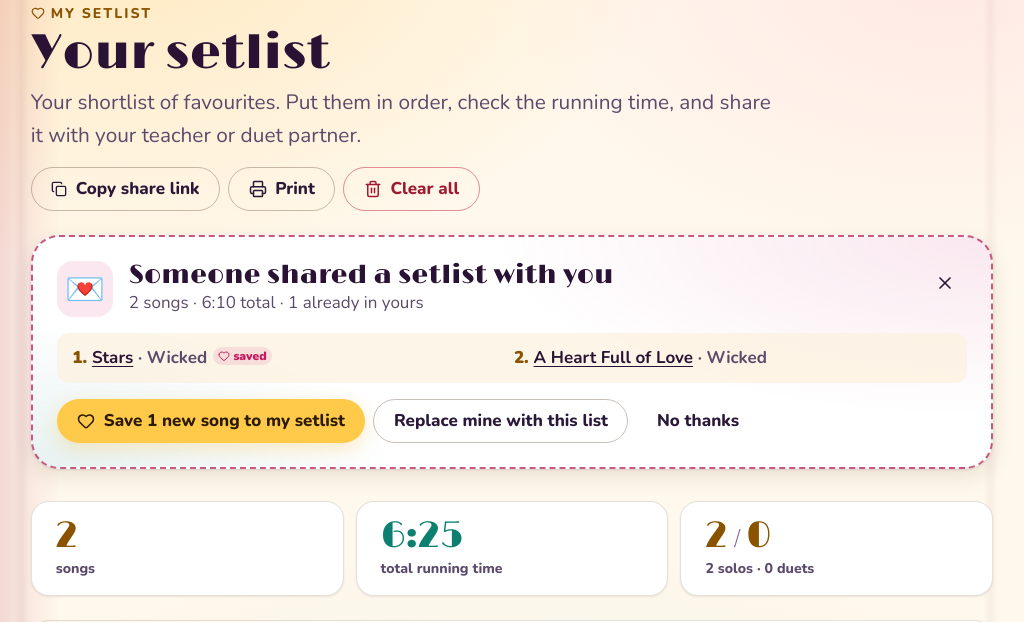
Test: SetlistPage shared links › shows the shared list without touching mine, then imports only new songs when asked
expect the element with test id "setlist-shared-banner" shows "Someone shared a setlist with you": met, box [129,259,614,291]
expect the element with test id "setlist-shared-banner" shows "2 songs · 6:10 total · 1 already in yours": met, box [129,291,424,314]
Click the button with test id "setlist-import" at (211, 421), box [57,399,365,443]
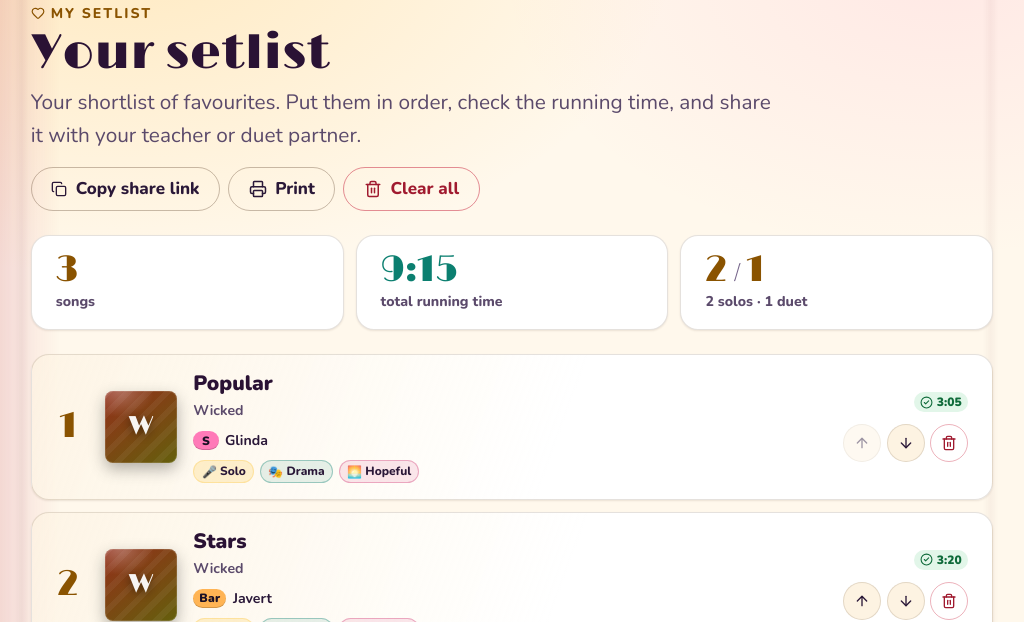
expect the element with test id "setlist-shared-banner" is gone: met
